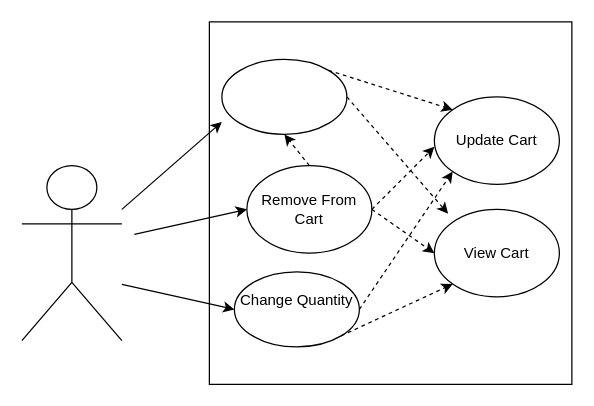
The diagram is 594 pixels wide and 406 high, and some of its shapes have lost their labels. Here are the shapes that lost their labels. From the top down, the centre of each, then its label:
At [284,96]: "Add To Cart".
At [71,252]: "Customer".
